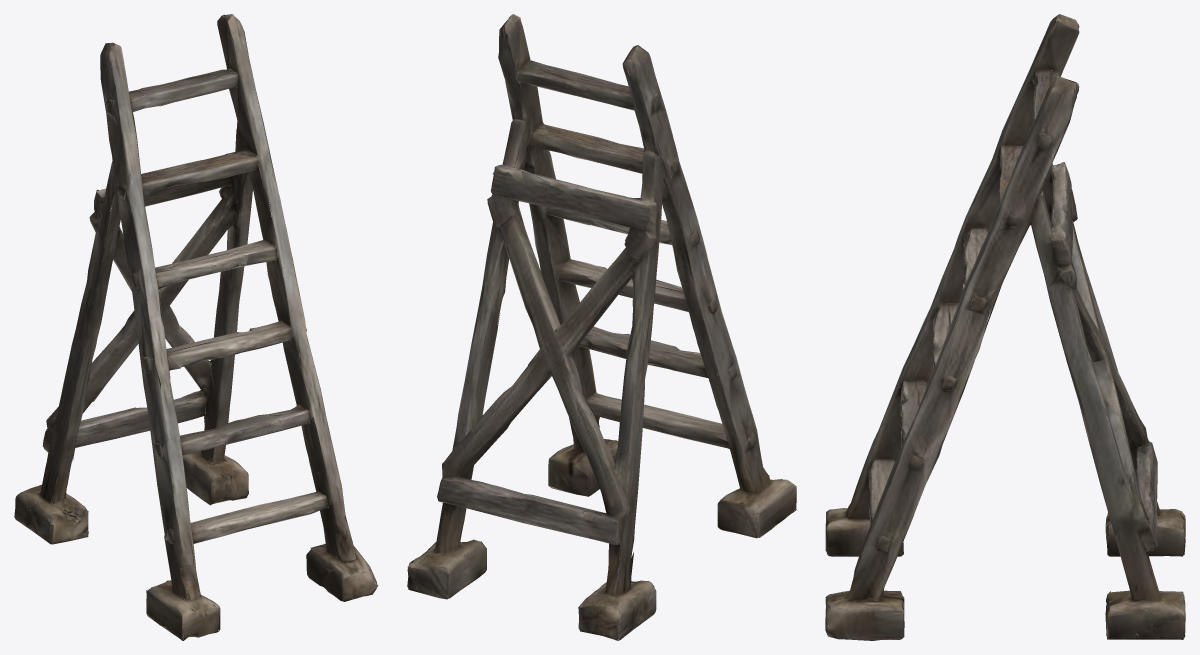
File: work-ladder.glb
3 views of the same model, side by side, from view 1: azimuth 30°, elevation 25°; view 2: azimuth 150°, elevation 25°; view 3: azimuth 270°, elevation 25° (orthographic). The views are drawn at different scales.
Parts seen in each view (by area): view 1: Mesh_0; view 2: Mesh_0; view 3: Mesh_0.
Boxes of the visible parts, x1,y1,x2,y2 form: Mesh_0: (14,14,378,640); Mesh_0: (407,14,796,640); Mesh_0: (825,14,1185,640).
Size of the model in its own units: 0.7823 by 1.9 by 1.14.
Materials: 1 (1 with a texture image).
